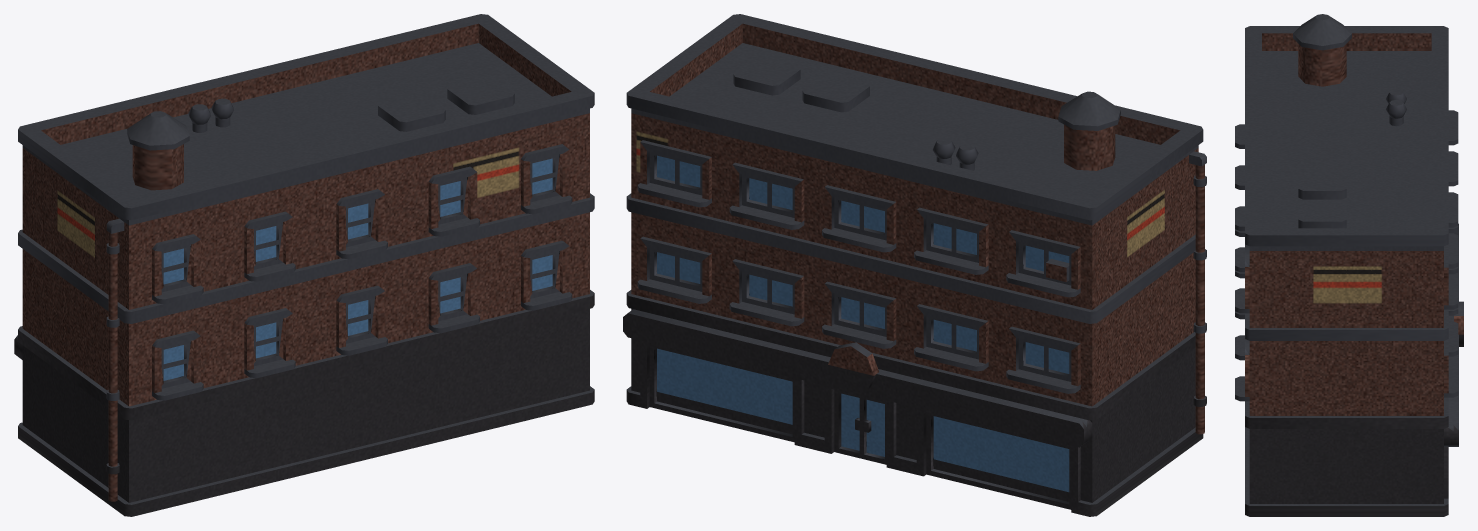
Rendered from building-k-brown-scuffed.glb.
3 renders of one model, left to right at view 1: azimuth 30°, elevation 25°; view 2: azimuth 150°, elevation 25°; view 3: azimuth 270°, elevation 25°, orthographic. The views are drawn at different scales.
Parts seen in each view (by area): view 1: building-k-brown-scuffed; view 2: building-k-brown-scuffed; view 3: building-k-brown-scuffed.
Boxes of the visible parts, x1,y1,x2,y2 form: building-k-brown-scuffed: (14, 14, 594, 516); building-k-brown-scuffed: (623, 14, 1206, 516); building-k-brown-scuffed: (1235, 14, 1463, 516).
Size of the model in its own units: 2.08 by 1.47 by 0.942.
1 material, 1 textured.
